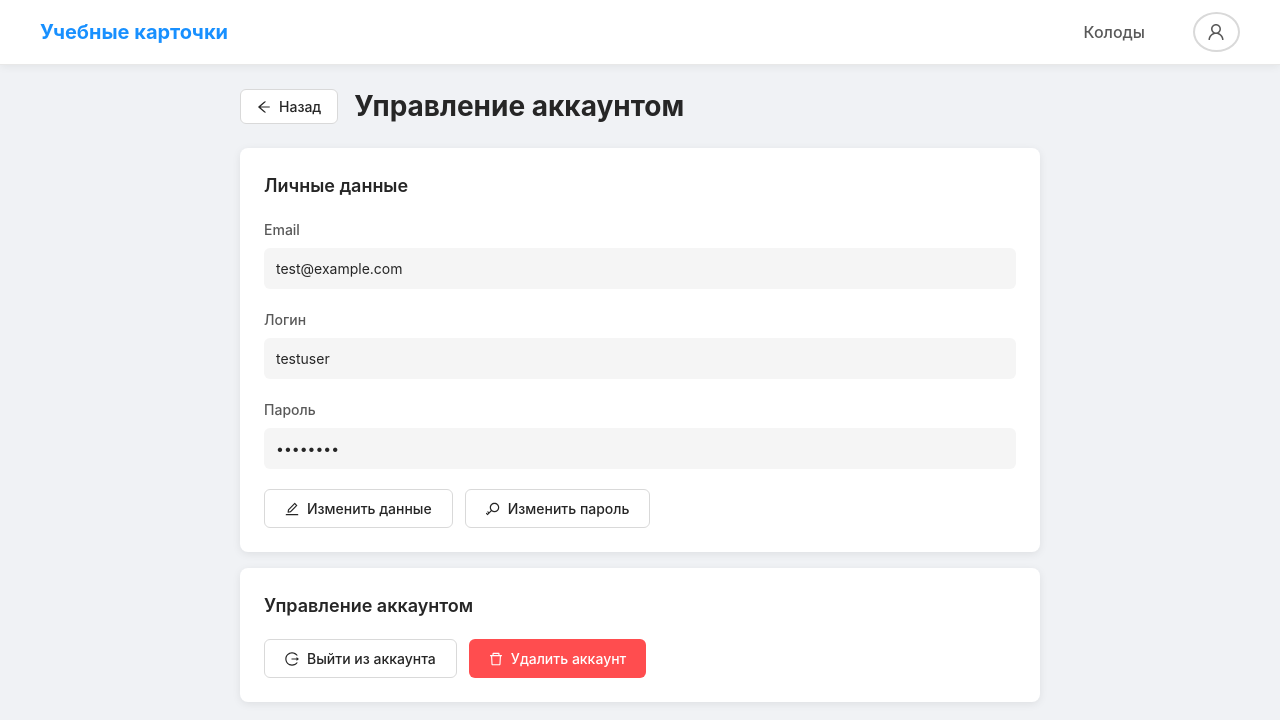
Test: ProfilePage › edit profile mode › switches to edit mode when clicking "Изменить данные"
Click the button "Изменить данные" at (358,508), box [264,489,453,528]
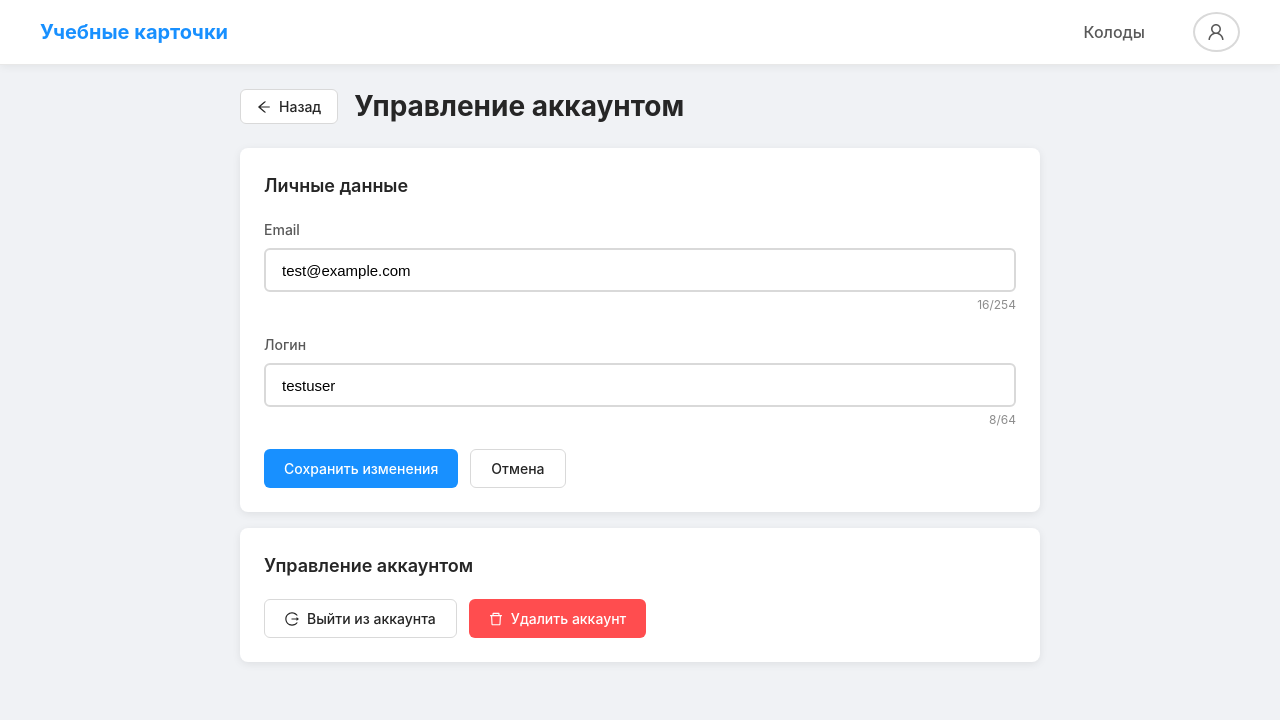
Expected: the field with placeholder "example@email.com" below "Email" holds "test@example.com", [264,248,1016,292]
Expected: the field with placeholder "username" below "Логин" holds "testuser", [264,363,1016,407]
Expected: the button "Сохранить изменения" is shown, [264,449,458,488]
